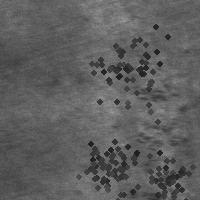rolled-in_scale: (71, 9, 185, 123), (64, 121, 154, 200), (129, 81, 187, 200), (132, 142, 200, 200)
